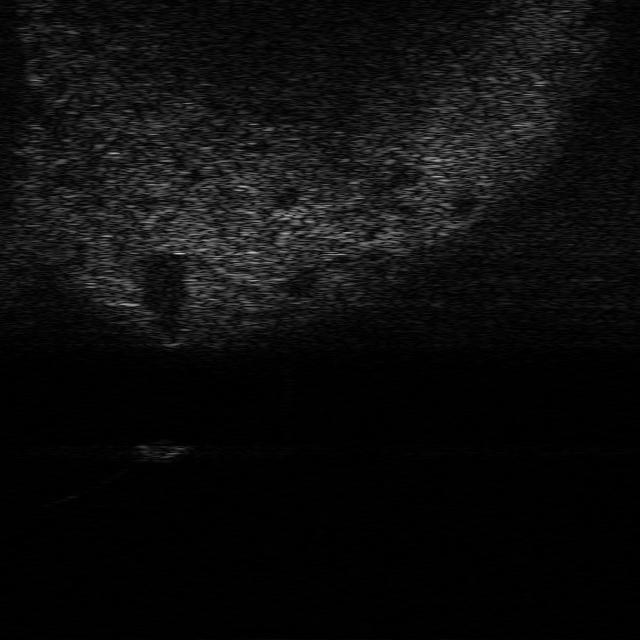cube: (134, 438, 186, 460)
